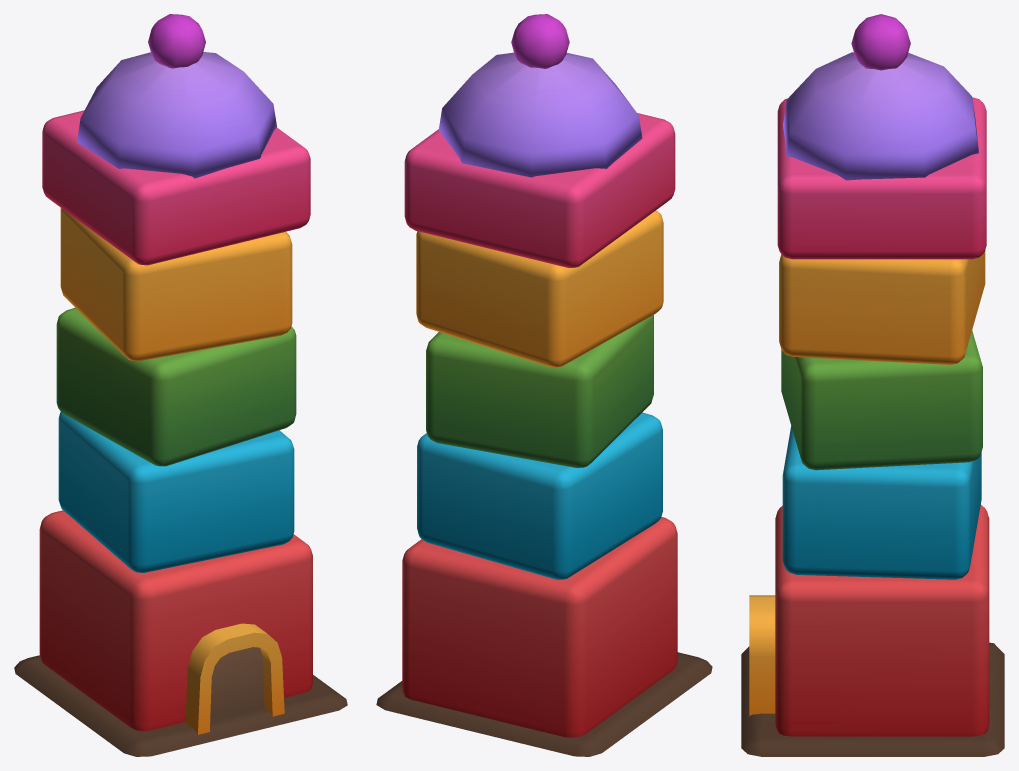
The model's file is ColorTower01.glb.
3 views of the same model, side by side, from view 1: azimuth 30°, elevation 25°; view 2: azimuth 150°, elevation 25°; view 3: azimuth 270°, elevation 25° (orthographic). The views are drawn at different scales.
Parts seen in each view (by area): view 1: ColorTower01; view 2: ColorTower01; view 3: ColorTower01.
Boxes of the visible parts, bbox=[...] form: ColorTower01: bbox=[14, 14, 347, 756]; ColorTower01: bbox=[376, 14, 712, 756]; ColorTower01: bbox=[741, 14, 1004, 756].
Size of what is drawn, in the model's own units: 5.98 by 17.16 by 5.98.
1 material, 1 textured.
